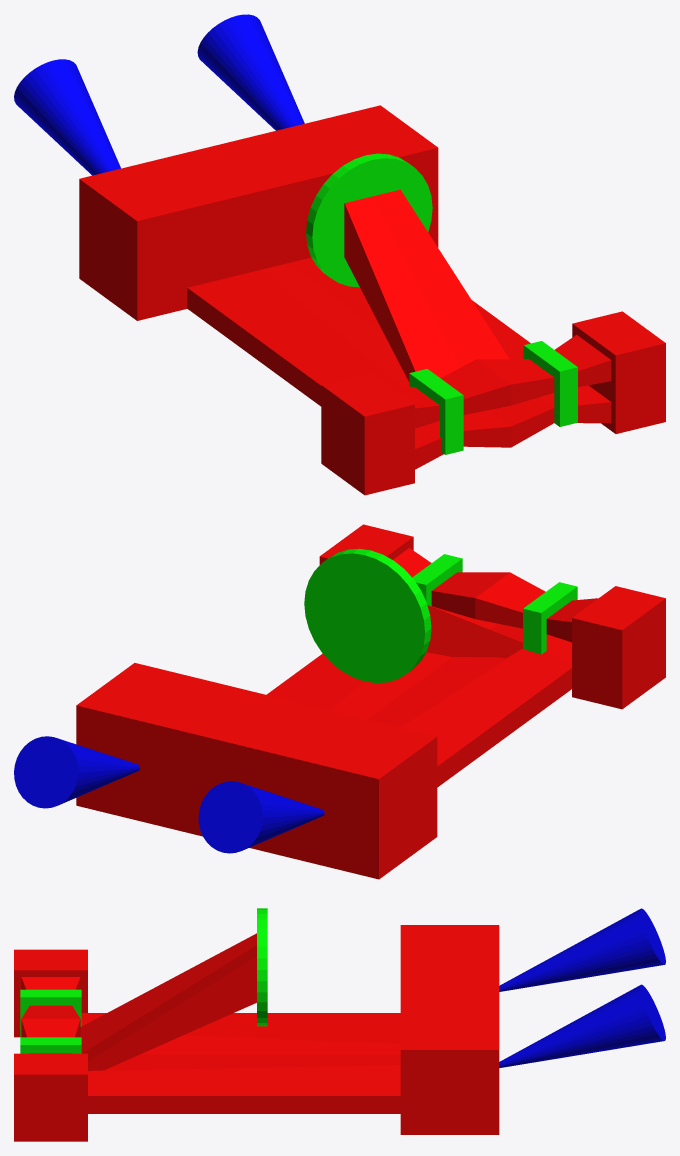
File: SM_Kart_Base.fbx
3 renders of one model, top to bottom at view 1: azimuth 30°, elevation 25°; view 2: azimuth 150°, elevation 25°; view 3: azimuth 270°, elevation 25°, orthographic. The views are drawn at different scales.
Parts seen in each view (by area): view 1: SM_Kart_Body; view 2: SM_Kart_Body; view 3: SM_Kart_Body.
Part boxes in pixels (x1,y1,x2,y2): SM_Kart_Body: (14,14,665,495); SM_Kart_Body: (14,524,665,879); SM_Kart_Body: (14,908,665,1141).
Size of the model in its own units: 240 by 148 by 529.
